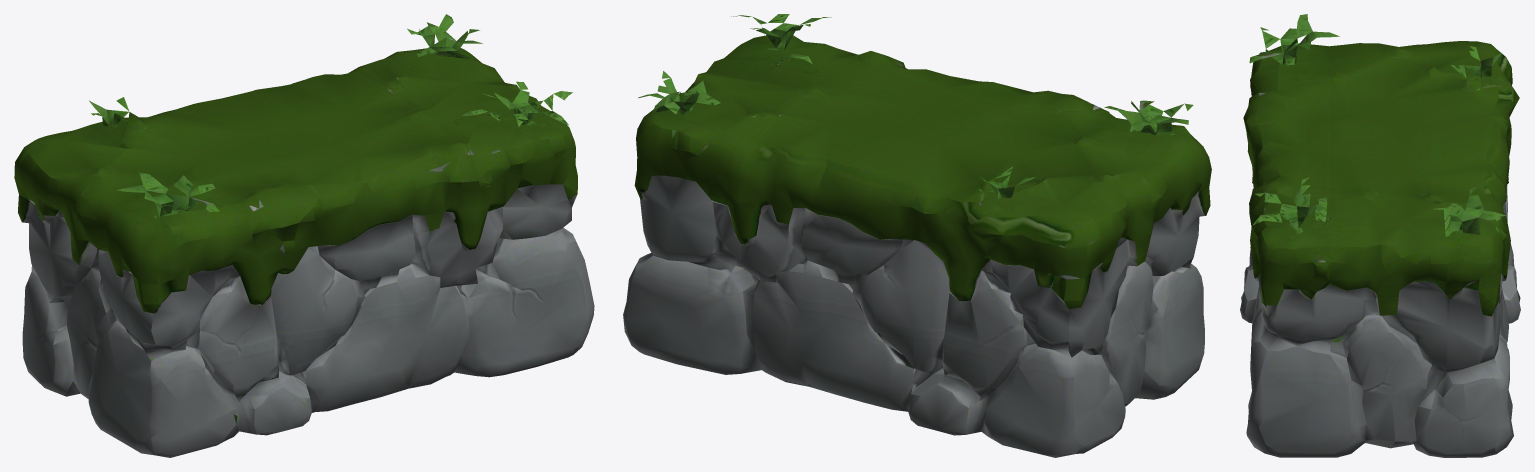
Rendered from bosque_roca.glb.
3 views of the same model, side by side, from view 1: azimuth 30°, elevation 25°; view 2: azimuth 150°, elevation 25°; view 3: azimuth 270°, elevation 25° (orthographic). The views are drawn at different scales.
Visible parts, largest first — view 1: tripo_node_e243339b-f082-4691-9c5e-f509c0e6de32; view 2: tripo_node_e243339b-f082-4691-9c5e-f509c0e6de32; view 3: tripo_node_e243339b-f082-4691-9c5e-f509c0e6de32.
Boxes of the visible parts, x1=… form: tripo_node_e243339b-f082-4691-9c5e-f509c0e6de32: x1=14, y1=14, x2=594, y2=457; tripo_node_e243339b-f082-4691-9c5e-f509c0e6de32: x1=623, y1=14, x2=1211, y2=457; tripo_node_e243339b-f082-4691-9c5e-f509c0e6de32: x1=1240, y1=14, x2=1520, y2=457.
Size of the model in its own units: 0.9995 by 0.5507 by 0.5552.
1 material, 1 textured.
